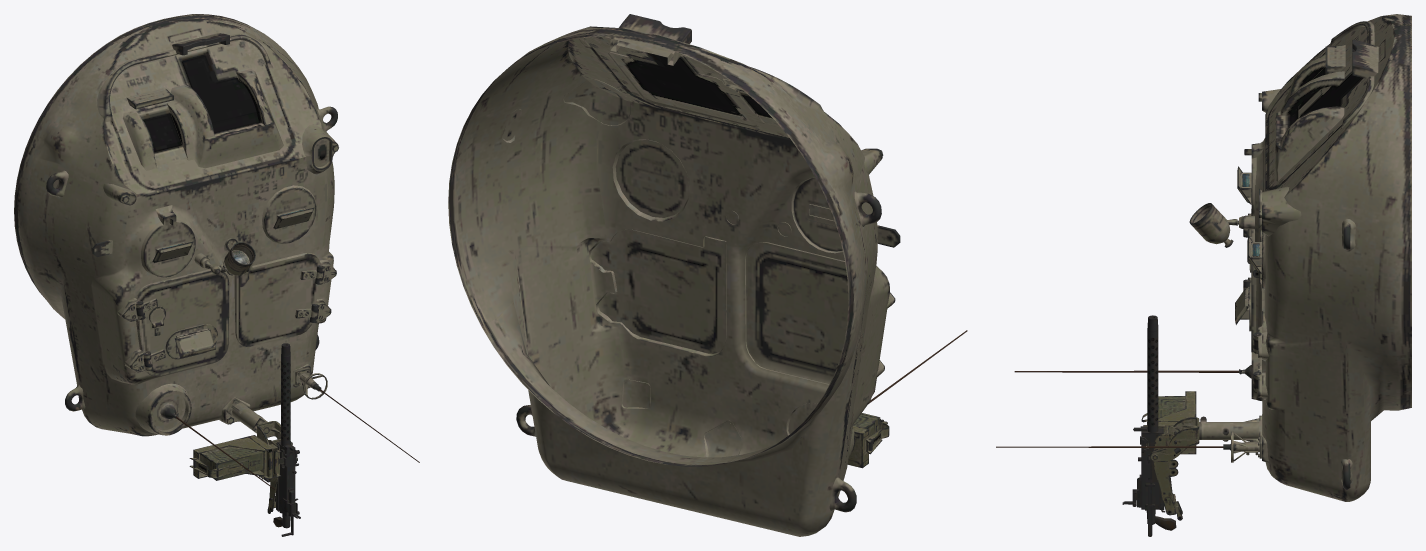
The model's file is Turret_01.glb.
3 views of the same model, side by side, from view 1: azimuth 30°, elevation 25°; view 2: azimuth 150°, elevation 25°; view 3: azimuth 270°, elevation 25° (orthographic). The views are drawn at different scales.
Visible parts, largest first — view 1: set_0_group_0; view 2: set_0_group_0; view 3: set_0_group_0.
Boxes of the visible parts, box(x1,y1,x2,y2) form: set_0_group_0: box(14, 14, 419, 536); set_0_group_0: box(448, 14, 967, 536); set_0_group_0: box(996, 14, 1411, 536).
Size of the model in its own units: 1.73 by 2.4 by 1.83.
Materials: 1 (1 with a texture image).
